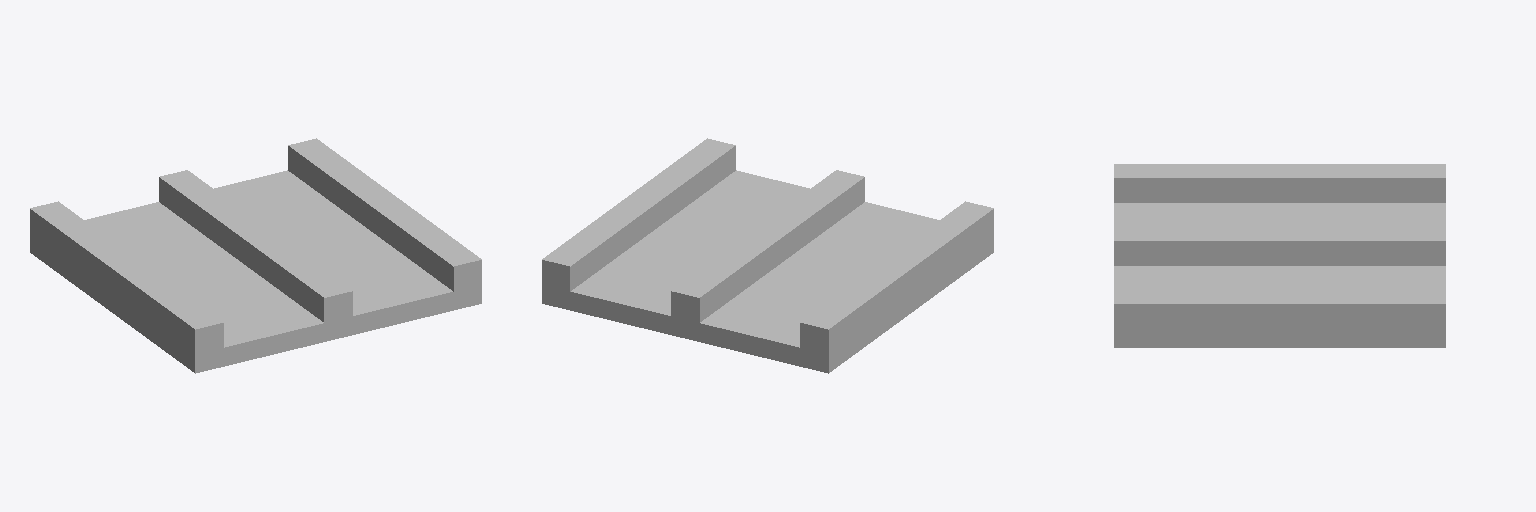
File: Split_01.obj
3 renders of one model, left to right at view 1: azimuth 30°, elevation 25°; view 2: azimuth 150°, elevation 25°; view 3: azimuth 270°, elevation 25°, orthographic.
Visible parts, largest first — view 1: Mesh1 Split Model; view 2: Mesh1 Split Model; view 3: Mesh1 Split Model.
Boxes of the visible parts, box(x1,y1,x2,y2) form: Mesh1 Split Model: box(30, 138, 481, 373); Mesh1 Split Model: box(542, 138, 993, 373); Mesh1 Split Model: box(1114, 164, 1445, 347).
Size of the model in its own units: 3 by 0.44 by 3.